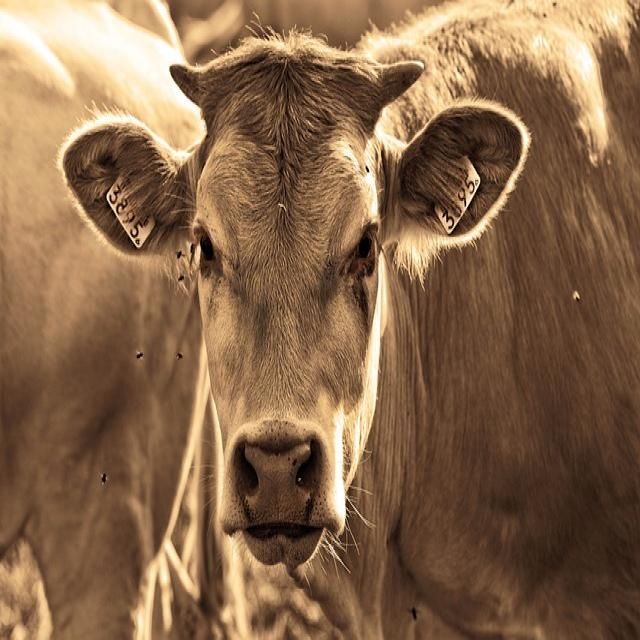Herbivorous: (64, 0, 640, 640)
